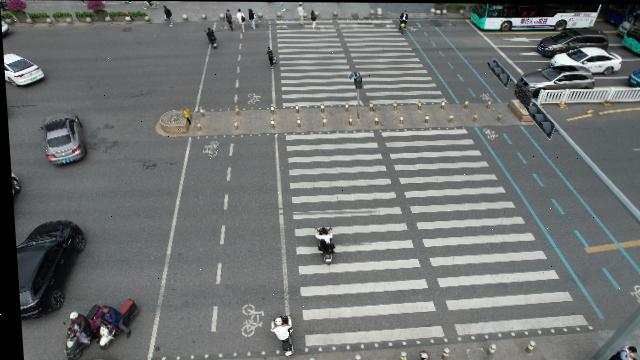non-motor-vehicle: (54, 303, 102, 360), (92, 297, 136, 350), (264, 313, 293, 358), (308, 226, 336, 265), (203, 27, 219, 50), (397, 9, 409, 34), (1, 1, 18, 12), (141, 1, 160, 10)
person: (597, 343, 635, 360), (264, 46, 278, 69), (162, 5, 173, 27), (236, 8, 246, 32), (224, 8, 234, 30), (297, 3, 307, 25), (247, 8, 256, 29), (310, 9, 318, 30), (278, 2, 286, 12)
